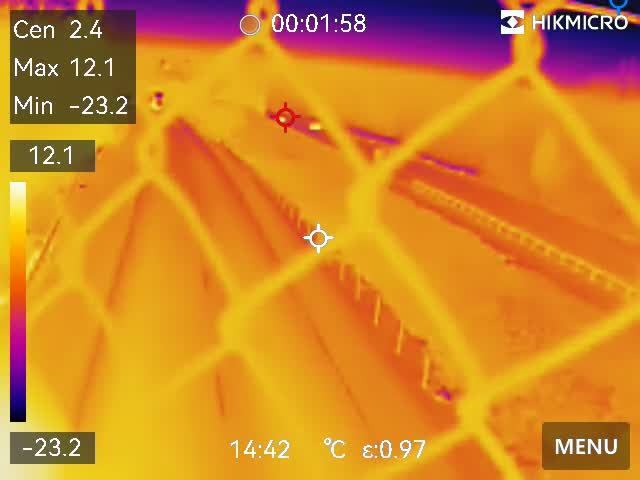vehicle: (308, 118, 325, 134)
